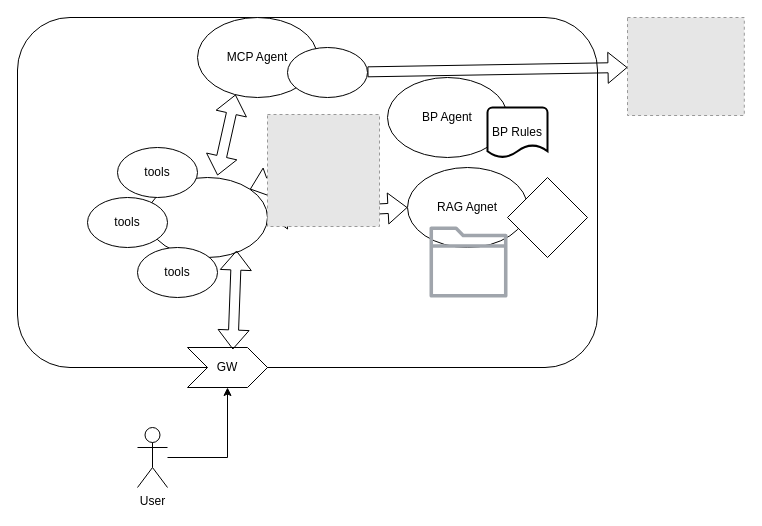
Image size: 762x526. Some labels were removed from this diagram. Grey dashed boxes stand in for pictures. Here are the shapes that lost their labels. From the top down, the centre of each, then its label:
At (327,72): "MCP Server".
At (207,217): "Orchestration Agent".
At (547,217): "Qdrant Vector DB".
At (468,261): "logs diags docs".
